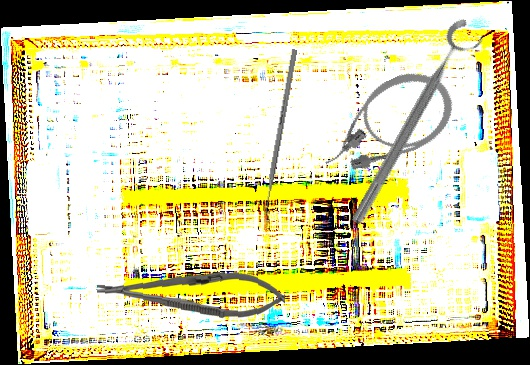Cannula: (305, 59, 465, 187)
Fixation Ring: (344, 15, 490, 235)
Needle Holder: (95, 264, 287, 321)
Pusher: (260, 48, 298, 226)
